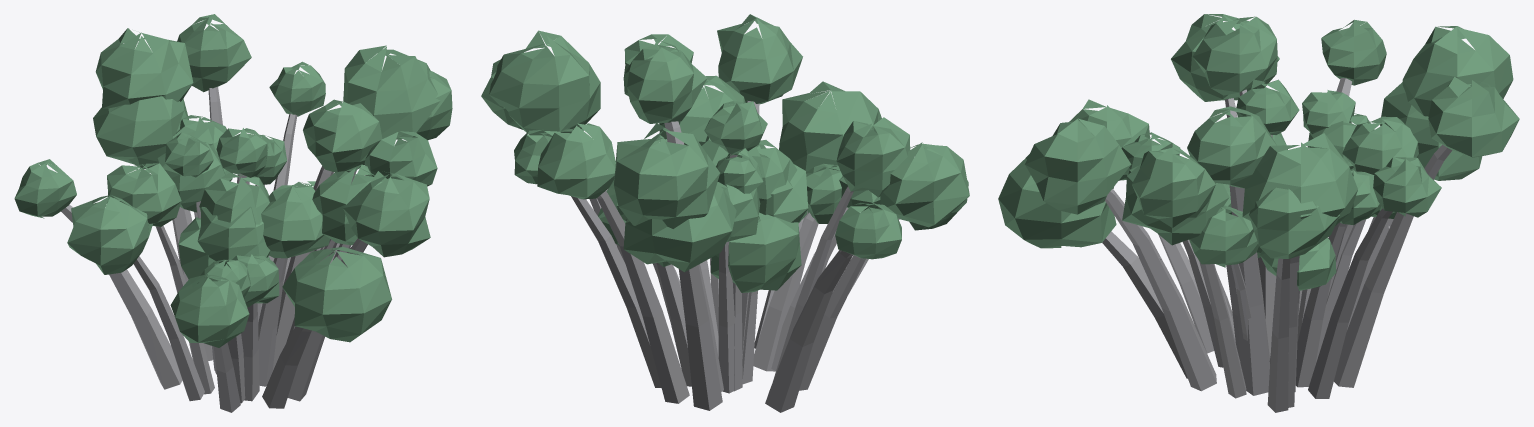
The model's file is temperate-forest-ecology-blackthorn-thicket-f2de45c5__3834.glb.
The picture shows the model from 3 angles, left to right: view 1: azimuth 30°, elevation 25°; view 2: azimuth 150°, elevation 25°; view 3: azimuth 270°, elevation 25°; orthographic projection. The views are drawn at different scales.
Parts seen in each view (by area): view 1: blackthorn-thicket; view 2: blackthorn-thicket; view 3: blackthorn-thicket.
Boxes of the visible parts, bbox=[...] form: blackthorn-thicket: bbox=[14, 14, 452, 412]; blackthorn-thicket: bbox=[481, 14, 969, 412]; blackthorn-thicket: bbox=[998, 14, 1519, 412].
Size of the model in its own units: 4.76 by 3.3 by 4.6.
